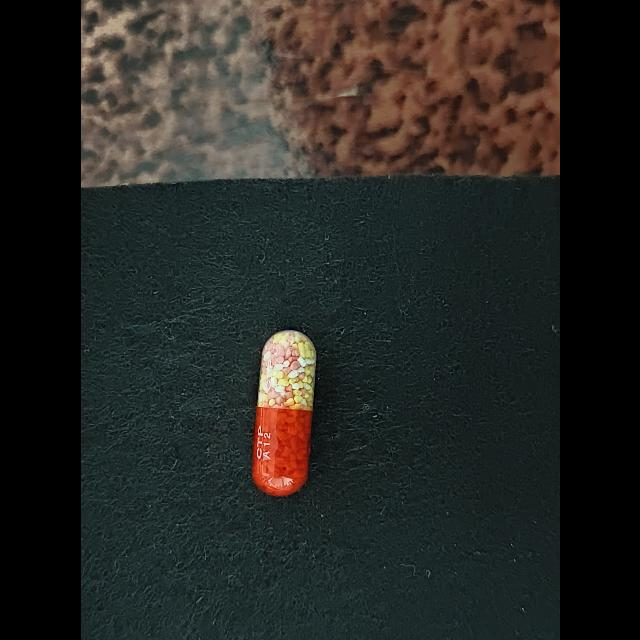Intact Capsule: (251, 330, 316, 496)
